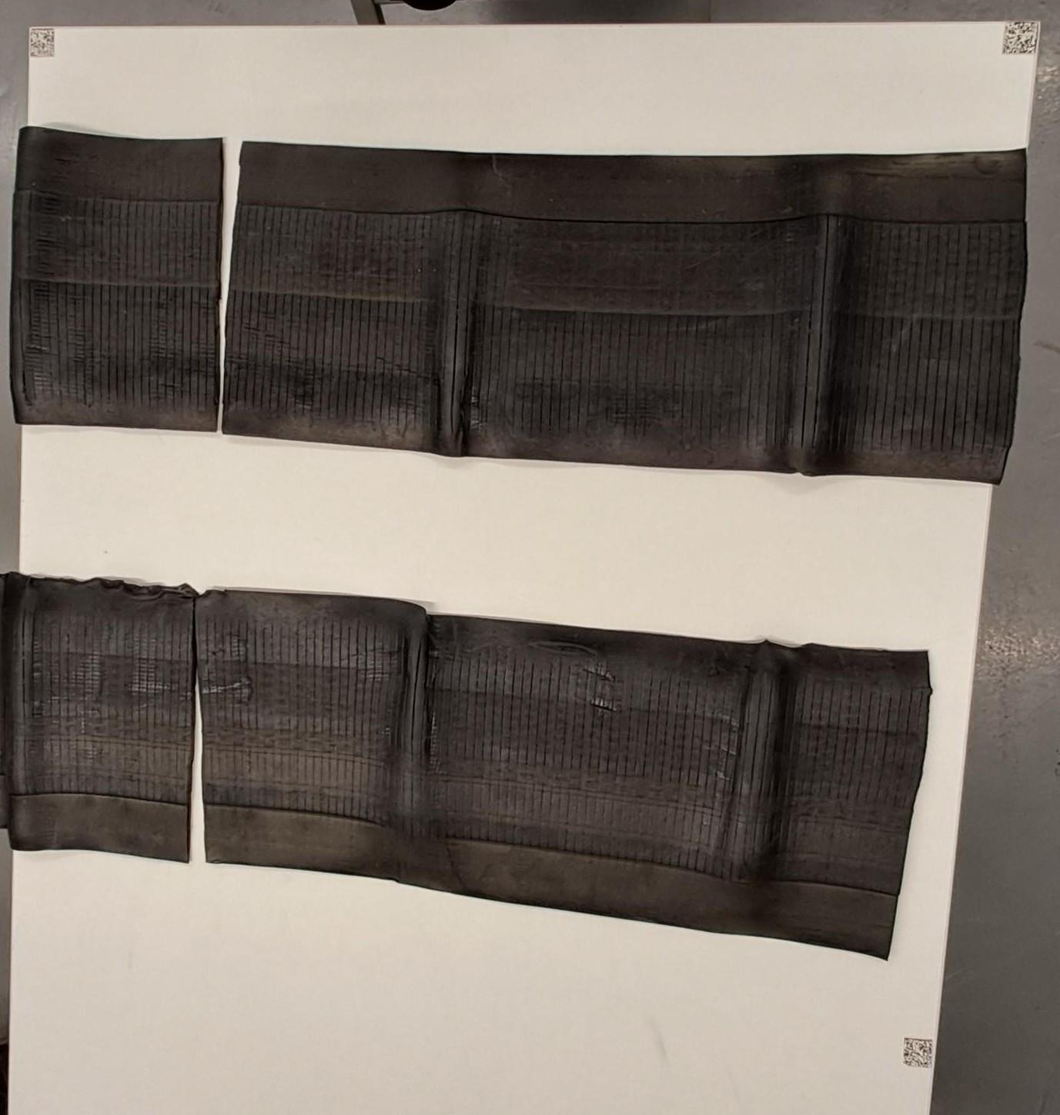cut_edge: (218, 138, 242, 431), (189, 603, 206, 862)
qr_code: (1001, 18, 1037, 52), (903, 1036, 932, 1067), (30, 28, 54, 56)
